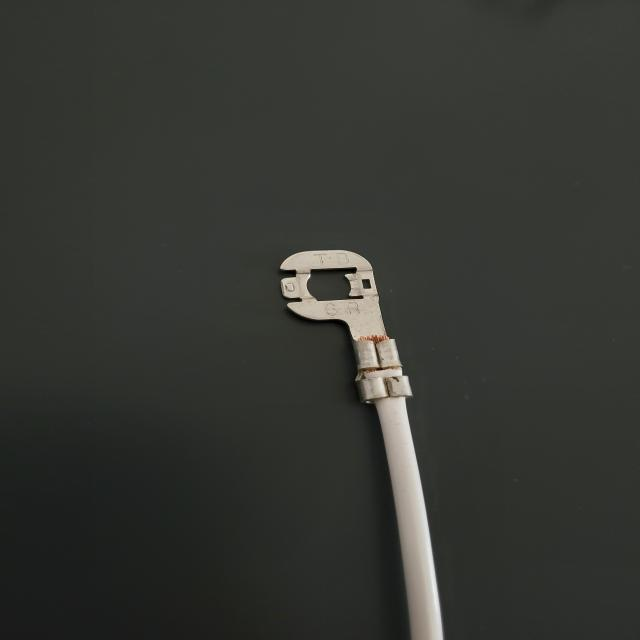good: (6, 4, 640, 636)
